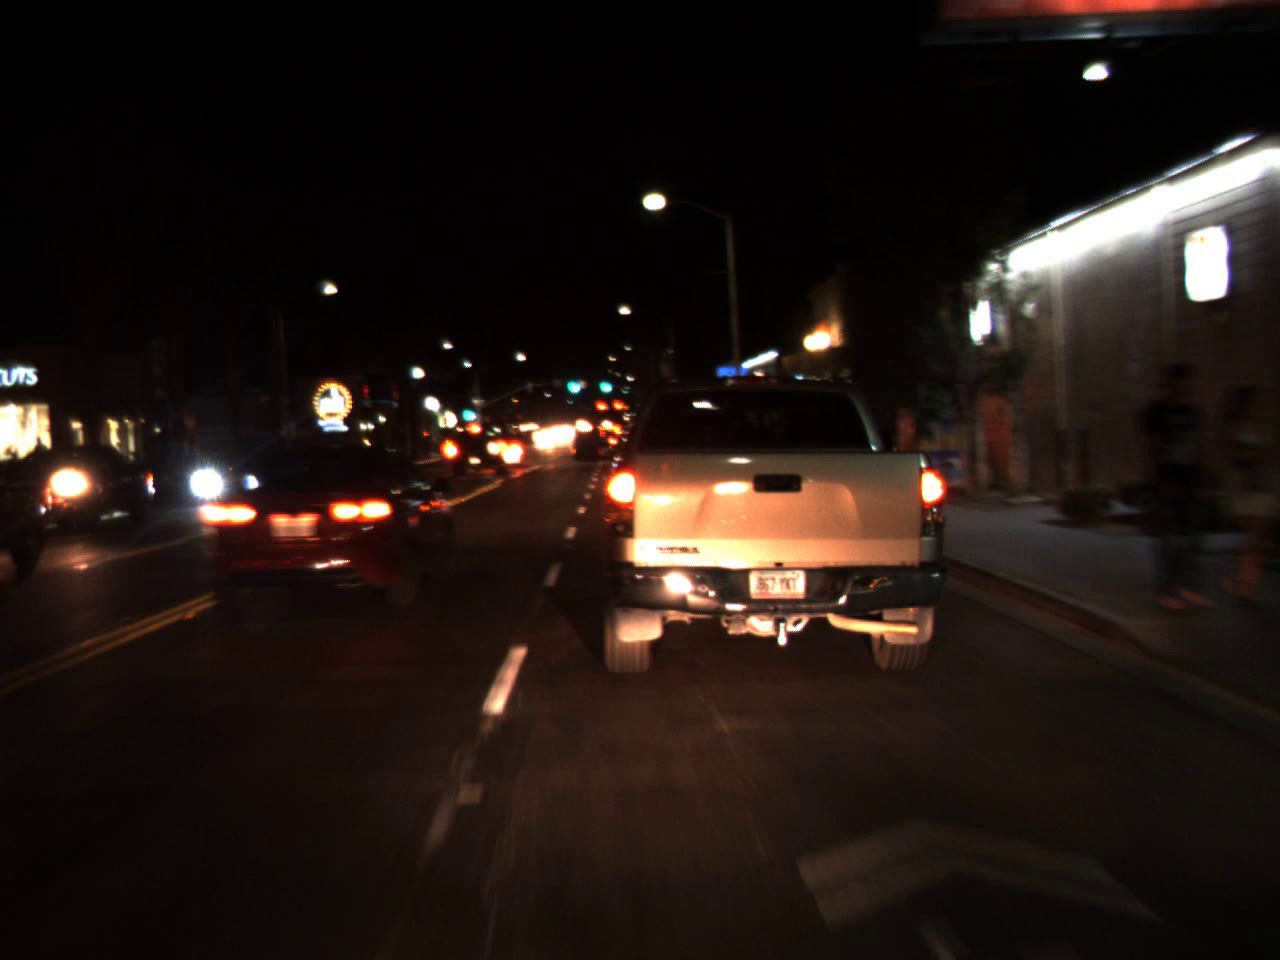go: (594, 367, 615, 397), (459, 395, 477, 425), (564, 367, 578, 397)
